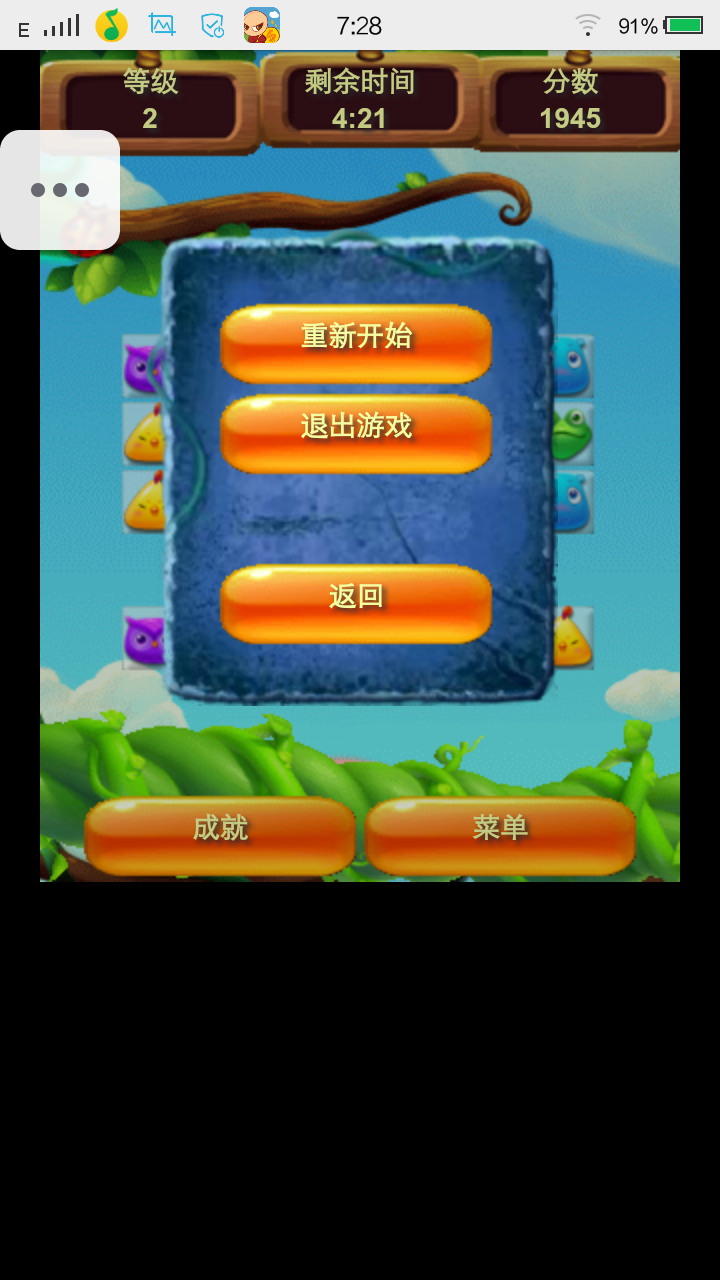alert: (159, 231, 558, 706)
button: (210, 296, 504, 388)
